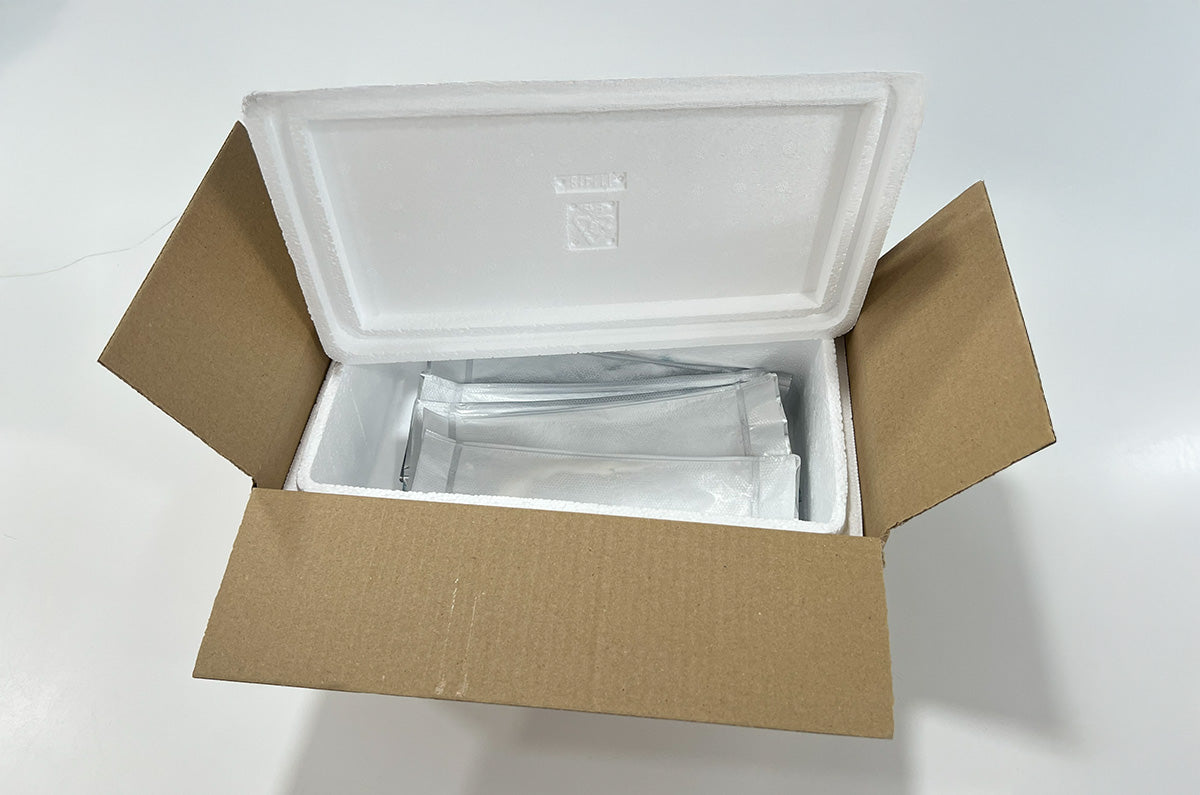Boxes: (240, 77, 914, 534)
